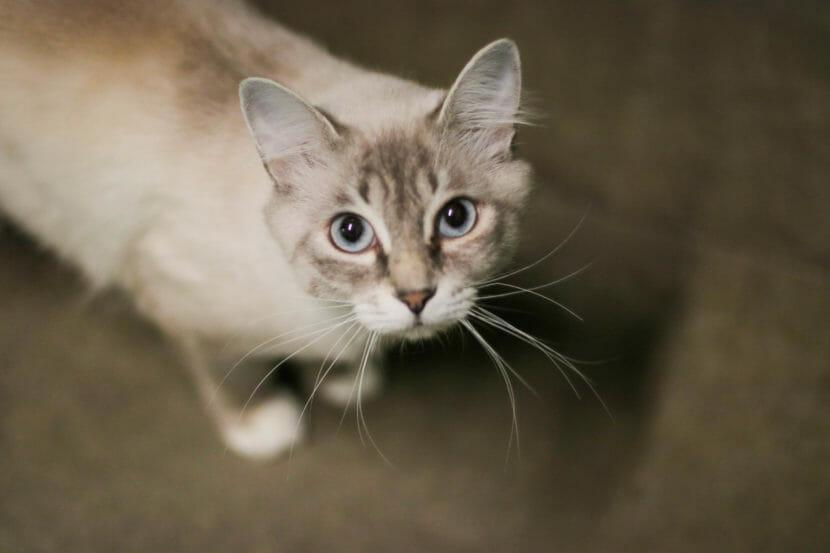Cat: (227, 34, 534, 340)
